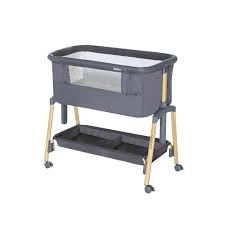crib: (45, 45, 182, 191)
